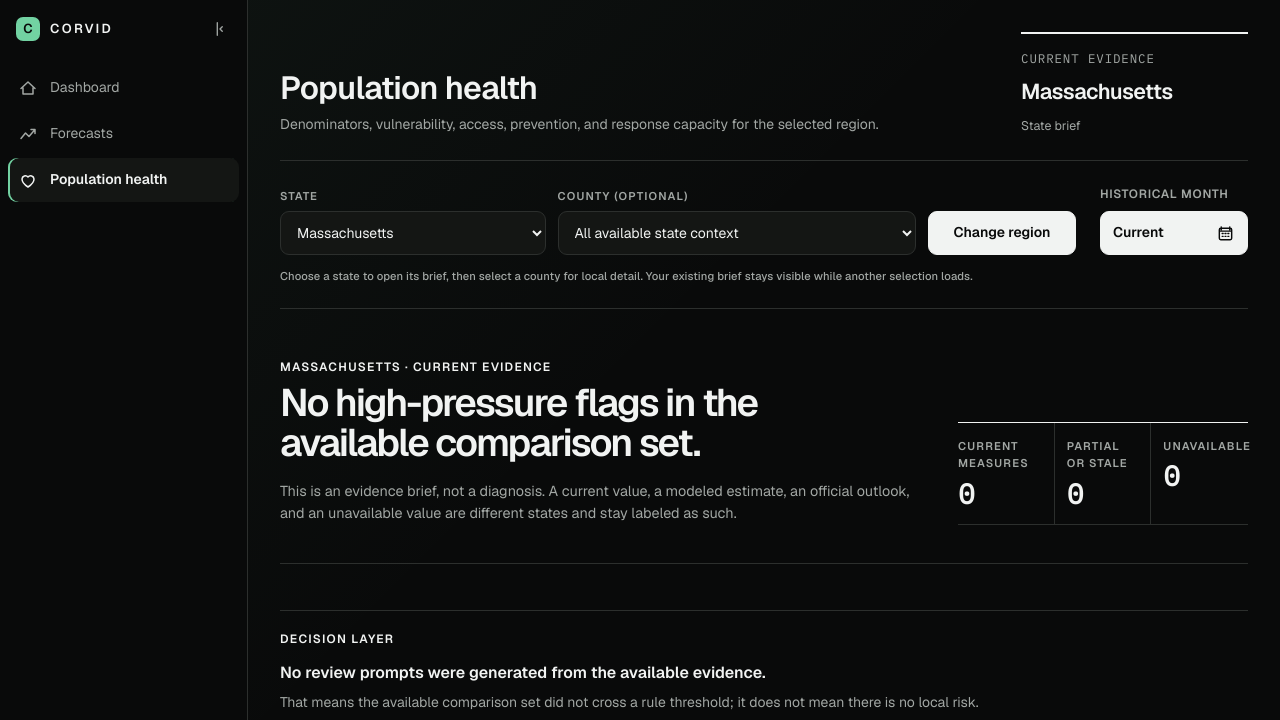
Test case: PopulationHealthPage › keeps the current brief visible and shows an inline update banner while a new geography loads, instead of resetting to a blank loading screen
The width and height of the screenshot is (1280, 720).
Select "California" in the dropdown labelled "State" at (413, 233), box [280,211,546,255]
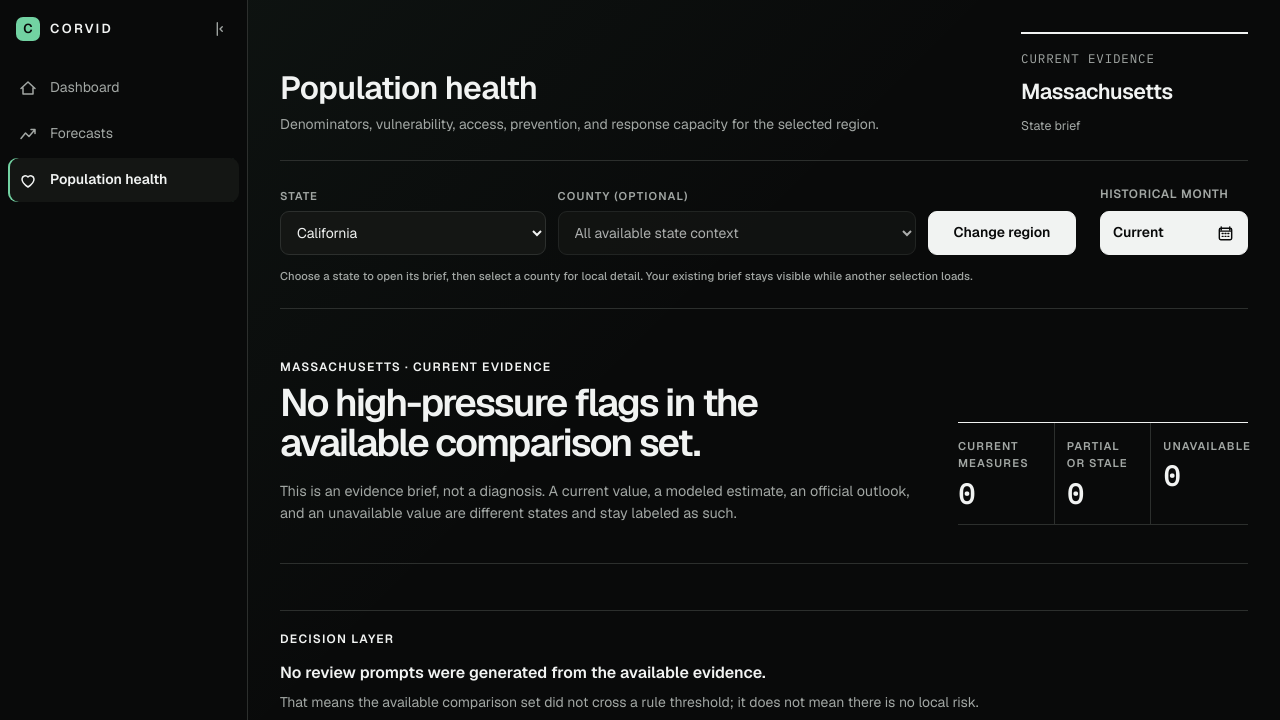
Click the button "Change region" at (1002, 233), box [928,211,1076,255]
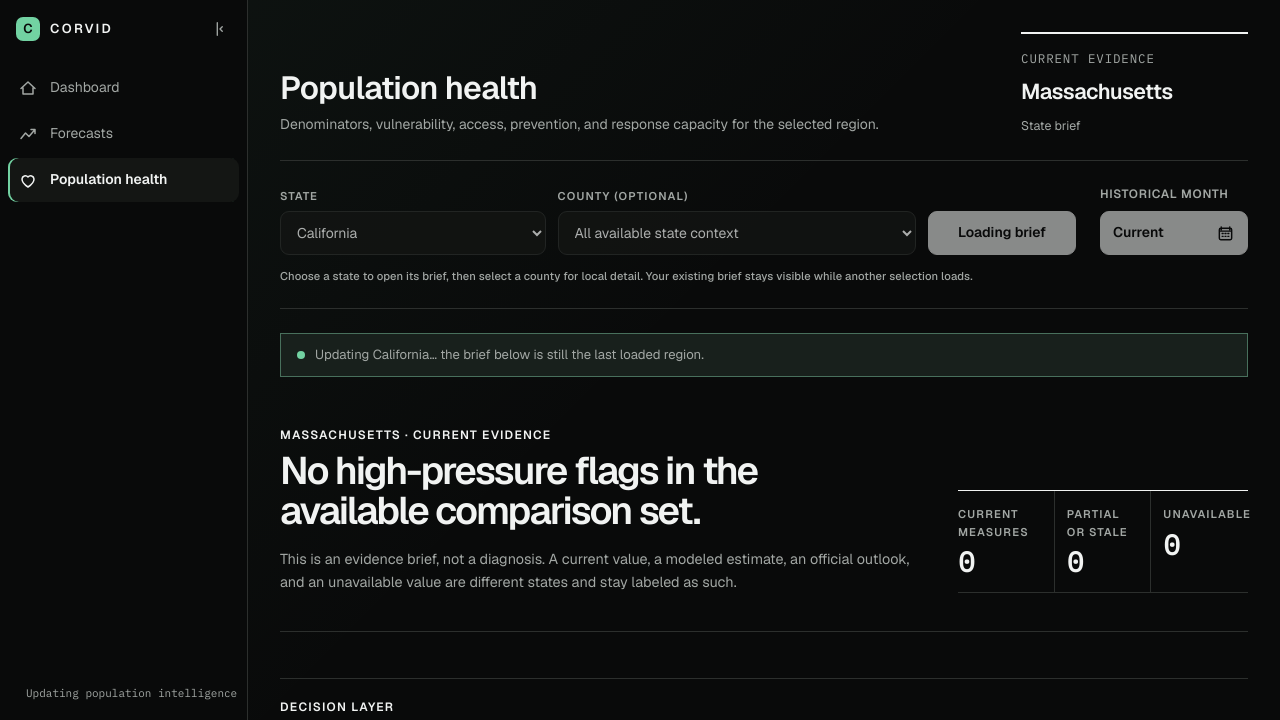
Expected: the heading "No high-pressure flags in the available comparison set." is shown, [280,446,757,535]
Now the text "Updating California" is shown, box [315,345,704,365]
Now the dropdown labelled "State" is disabled, box [280,211,546,255]
